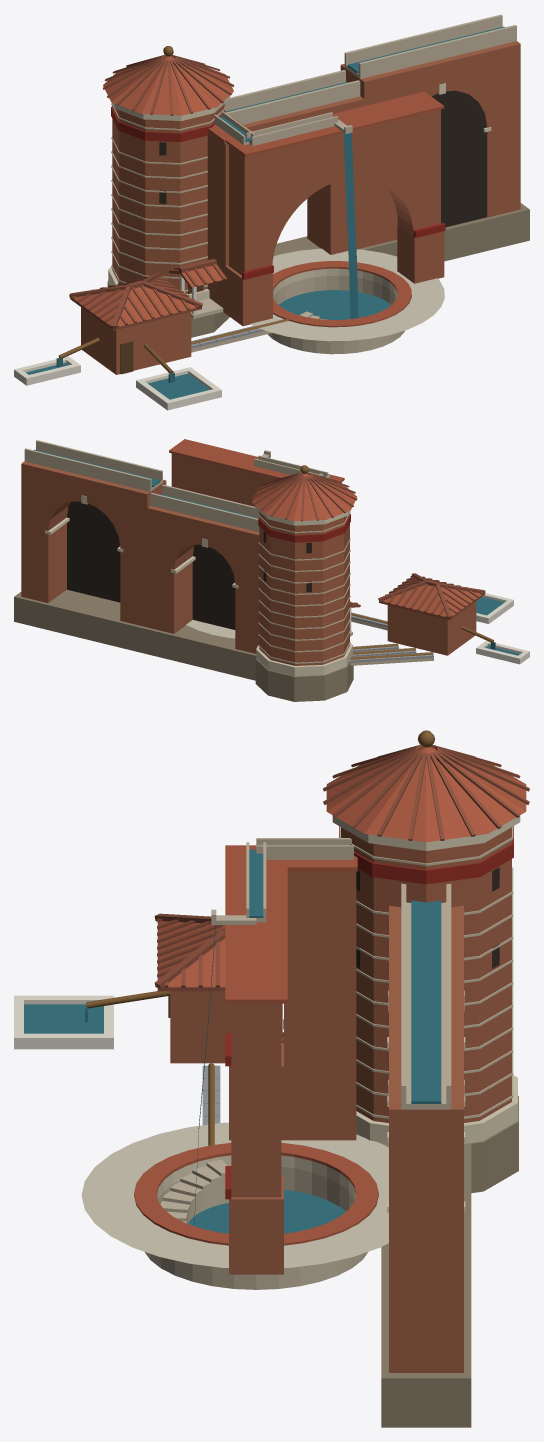
File: rome_claudia_terminal.glb
The picture shows the model from 3 angles, top to bottom: view 1: azimuth 30°, elevation 25°; view 2: azimuth 150°, elevation 25°; view 3: azimuth 270°, elevation 25°; orthographic projection. The views are drawn at different scales.
Parts seen in each view (by area): view 1: rome_claudia_terminal; view 2: rome_claudia_terminal; view 3: rome_claudia_terminal.
Part boxes in pixels (x1,y1,x2,y2): rome_claudia_terminal: (14, 14, 529, 410); rome_claudia_terminal: (14, 439, 529, 701); rome_claudia_terminal: (14, 730, 529, 1427).
Size of the model in its own units: 41 by 18.85 by 20.64.
